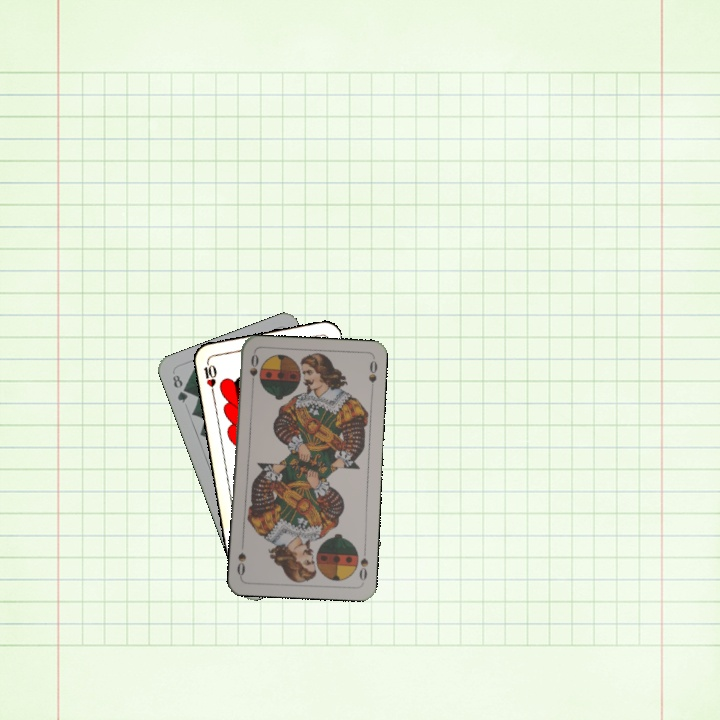G8: (168, 371, 190, 406)
H10: (199, 356, 219, 396)
SO: (355, 544, 371, 583), (246, 350, 261, 391)
